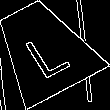L_NW: (15, 19, 72, 78)
